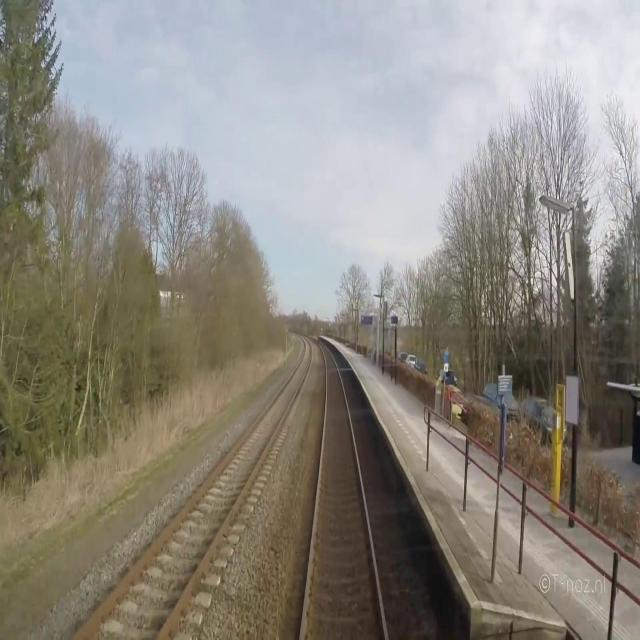rail-track: (304, 344, 384, 639)
